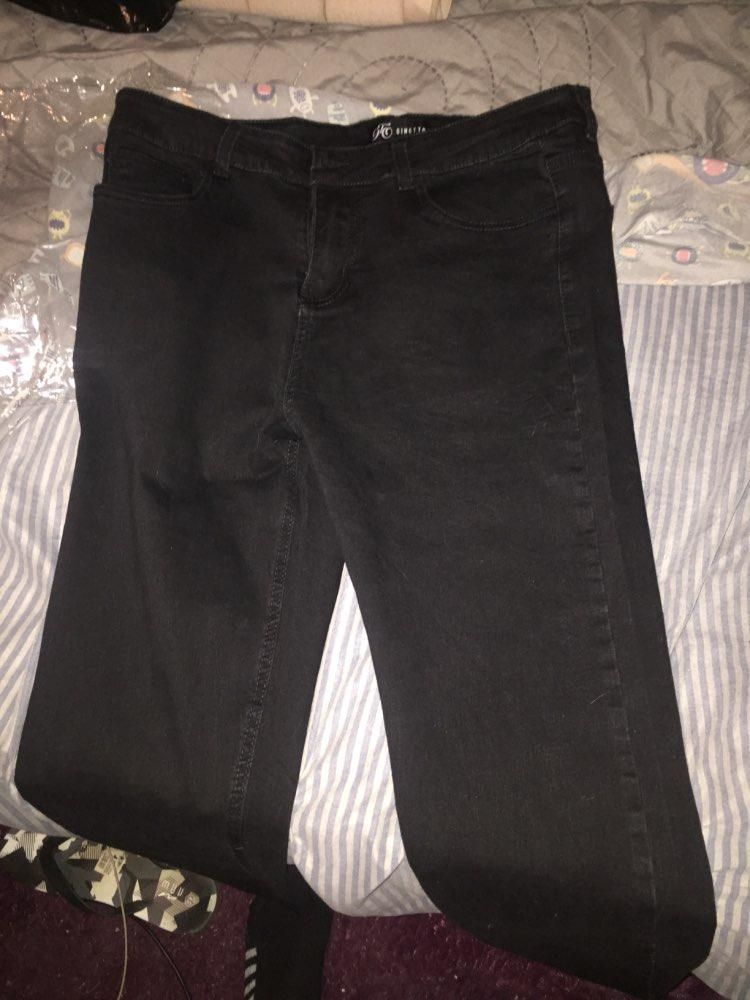jeans: (62, 95, 706, 955)
